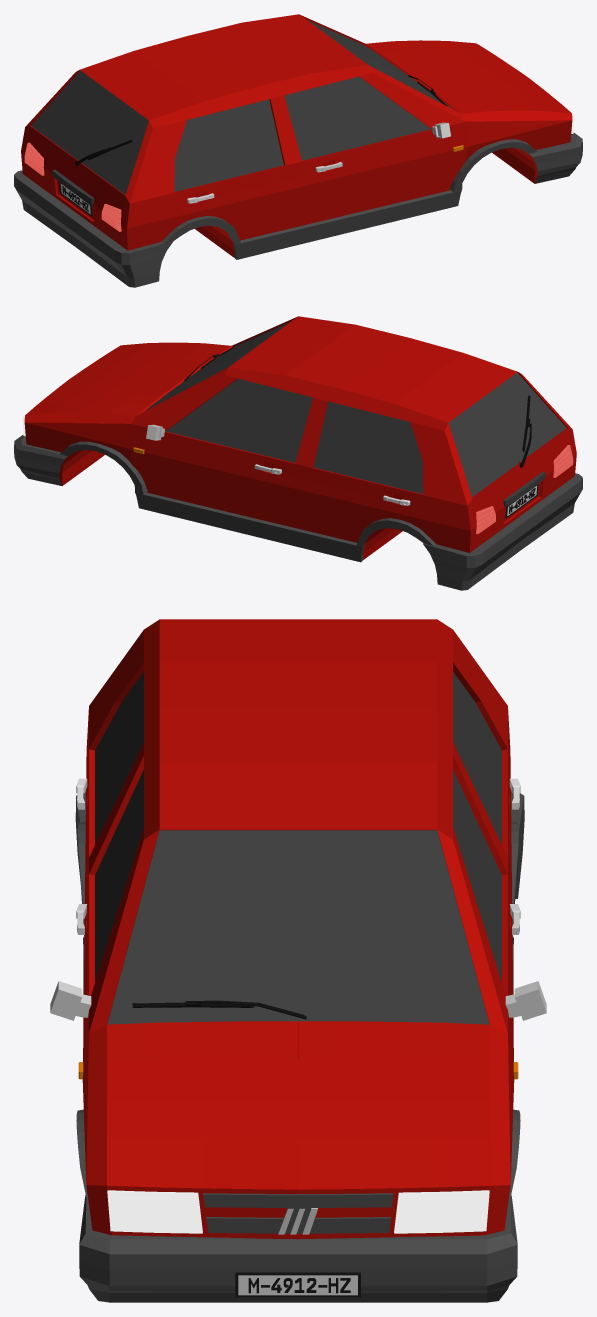
The model's file is fiat.glb.
3 views of the same model, one above another, from view 1: azimuth 30°, elevation 25°; view 2: azimuth 150°, elevation 25°; view 3: azimuth 270°, elevation 25° (orthographic). The views are drawn at different scales.
Visible parts, largest first — view 1: fiat; view 2: fiat; view 3: fiat.
Boxes of the visible parts, <box> form: fiat: <box>14,14,582,287</box>; fiat: <box>14,316,582,590</box>; fiat: <box>50,619,546,1302</box>.
Size of the model in its own units: 9.38 by 2.89 by 4.28.
